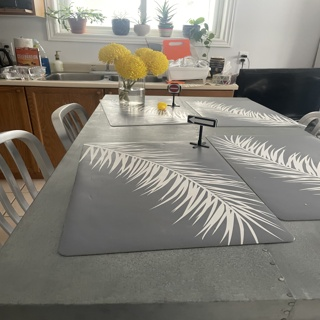sign_oneway_left: (188, 113, 214, 126)
